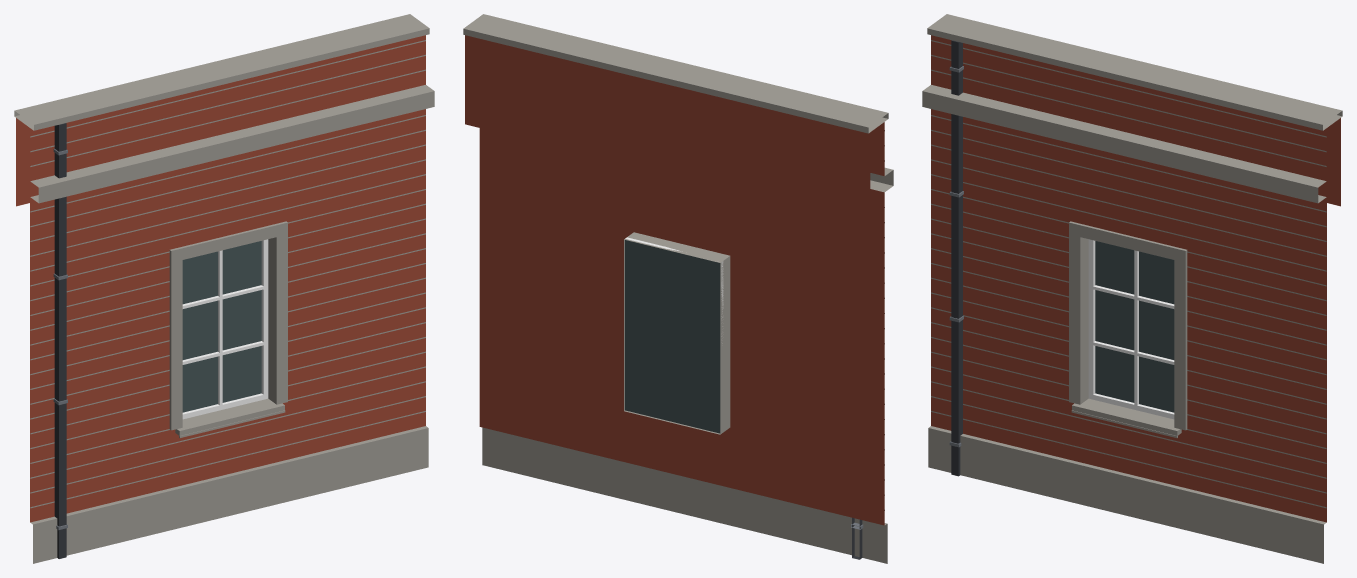
The model's file is base-w4_close.fbx.
The picture shows the model from 3 angles, left to right: view 1: azimuth 30°, elevation 25°; view 2: azimuth 150°, elevation 25°; view 3: azimuth 330°, elevation 25°; orthographic projection. The views are drawn at different scales.
Parts seen in each view (by area): view 1: a2003/700/base-w4_close; view 2: a2003/700/base-w4_close; view 3: a2003/700/base-w4_close.
Boxes of the visible parts, left/top/right/bottom form: a2003/700/base-w4_close: left=14, top=14, right=434, bottom=563; a2003/700/base-w4_close: left=463, top=14, right=893, bottom=563; a2003/700/base-w4_close: left=922, top=14, right=1342, bottom=563.
Bounding box in the file's own units: 4.2 × 4.46 × 0.45.
